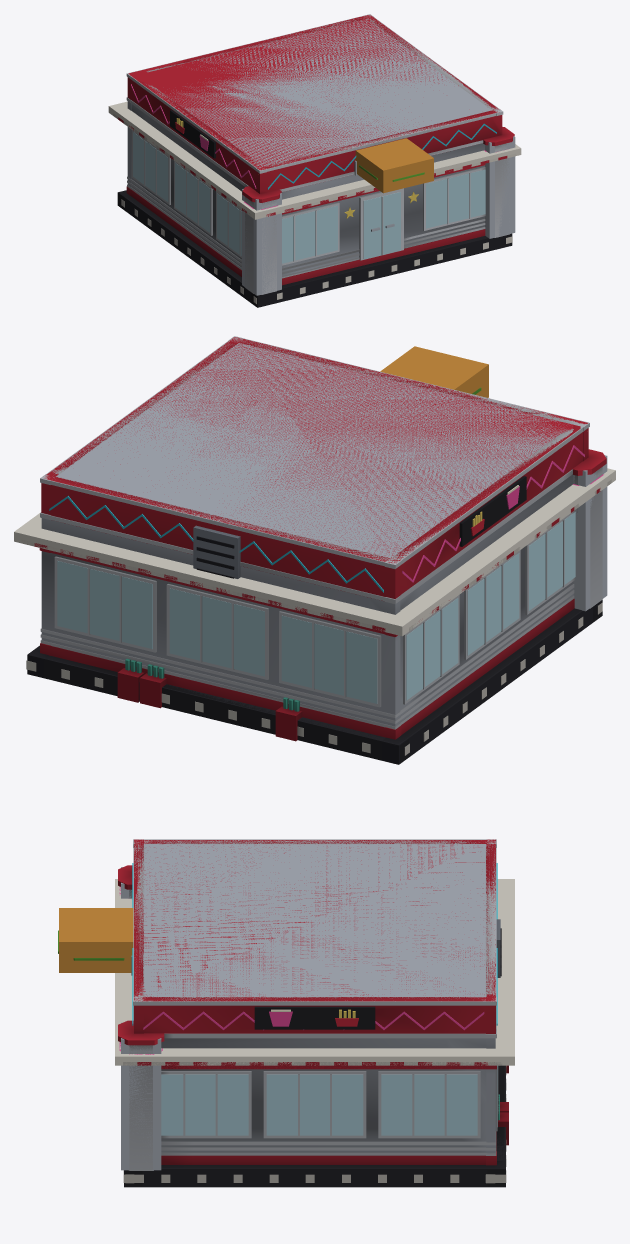
Rendered from TrophyBurgerFloor.fbx.
3 views of the same model, one above another, from view 1: azimuth 30°, elevation 25°; view 2: azimuth 150°, elevation 25°; view 3: azimuth 270°, elevation 25° (orthographic). The views are drawn at different scales.
Parts seen in each view (by area): view 1: TB_S_All, TB_F_Smooth, TB_F_Rings, TB_F_Glass, TB_F_Quiet; view 2: TB_S_All, TB_F_Smooth, TB_F_Rings, TB_F_Glass, TB_F_Quiet, TB_F_Props; view 3: TB_S_All, TB_F_Smooth, TB_F_Rings, TB_F_Glass, TB_F_Quiet.
Part boxes in pixels (<box>): TB_S_All: <box>108,15,521,307</box>; TB_F_Smooth: <box>113,14,515,303</box>; TB_F_Rings: <box>127,15,502,276</box>; TB_F_Glass: <box>131,84,496,263</box>; TB_F_Quiet: <box>118,190,511,306</box>; TB_S_All: <box>14,337,615,764</box>; TB_F_Smooth: <box>21,336,611,755</box>; TB_F_Rings: <box>41,337,588,726</box>; TB_F_Glass: <box>49,445,603,703</box>; TB_F_Quiet: <box>28,600,602,763</box>; TB_F_Props: <box>117,387,481,741</box>; TB_S_All: <box>59,840,514,1187</box>; TB_F_Smooth: <box>58,839,506,1183</box>; TB_F_Rings: <box>134,839,495,1153</box>; TB_F_Glass: <box>119,863,497,1135</box>; TB_F_Quiet: <box>125,1065,504,1186</box>.
Bounding box in the file's own units: 60 × 20 × 60.
